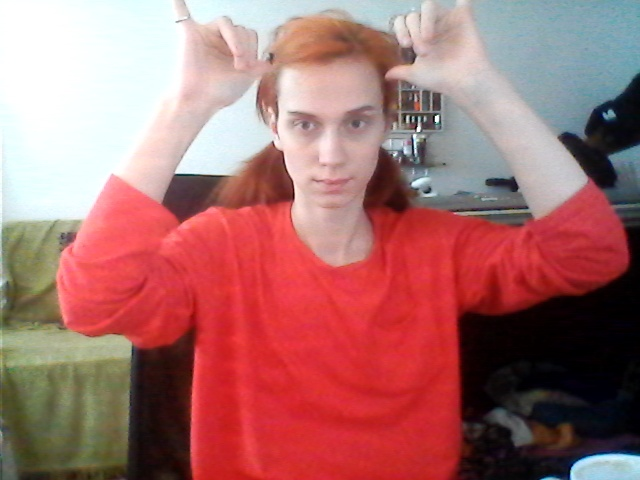krava: (165, 1, 485, 127)
